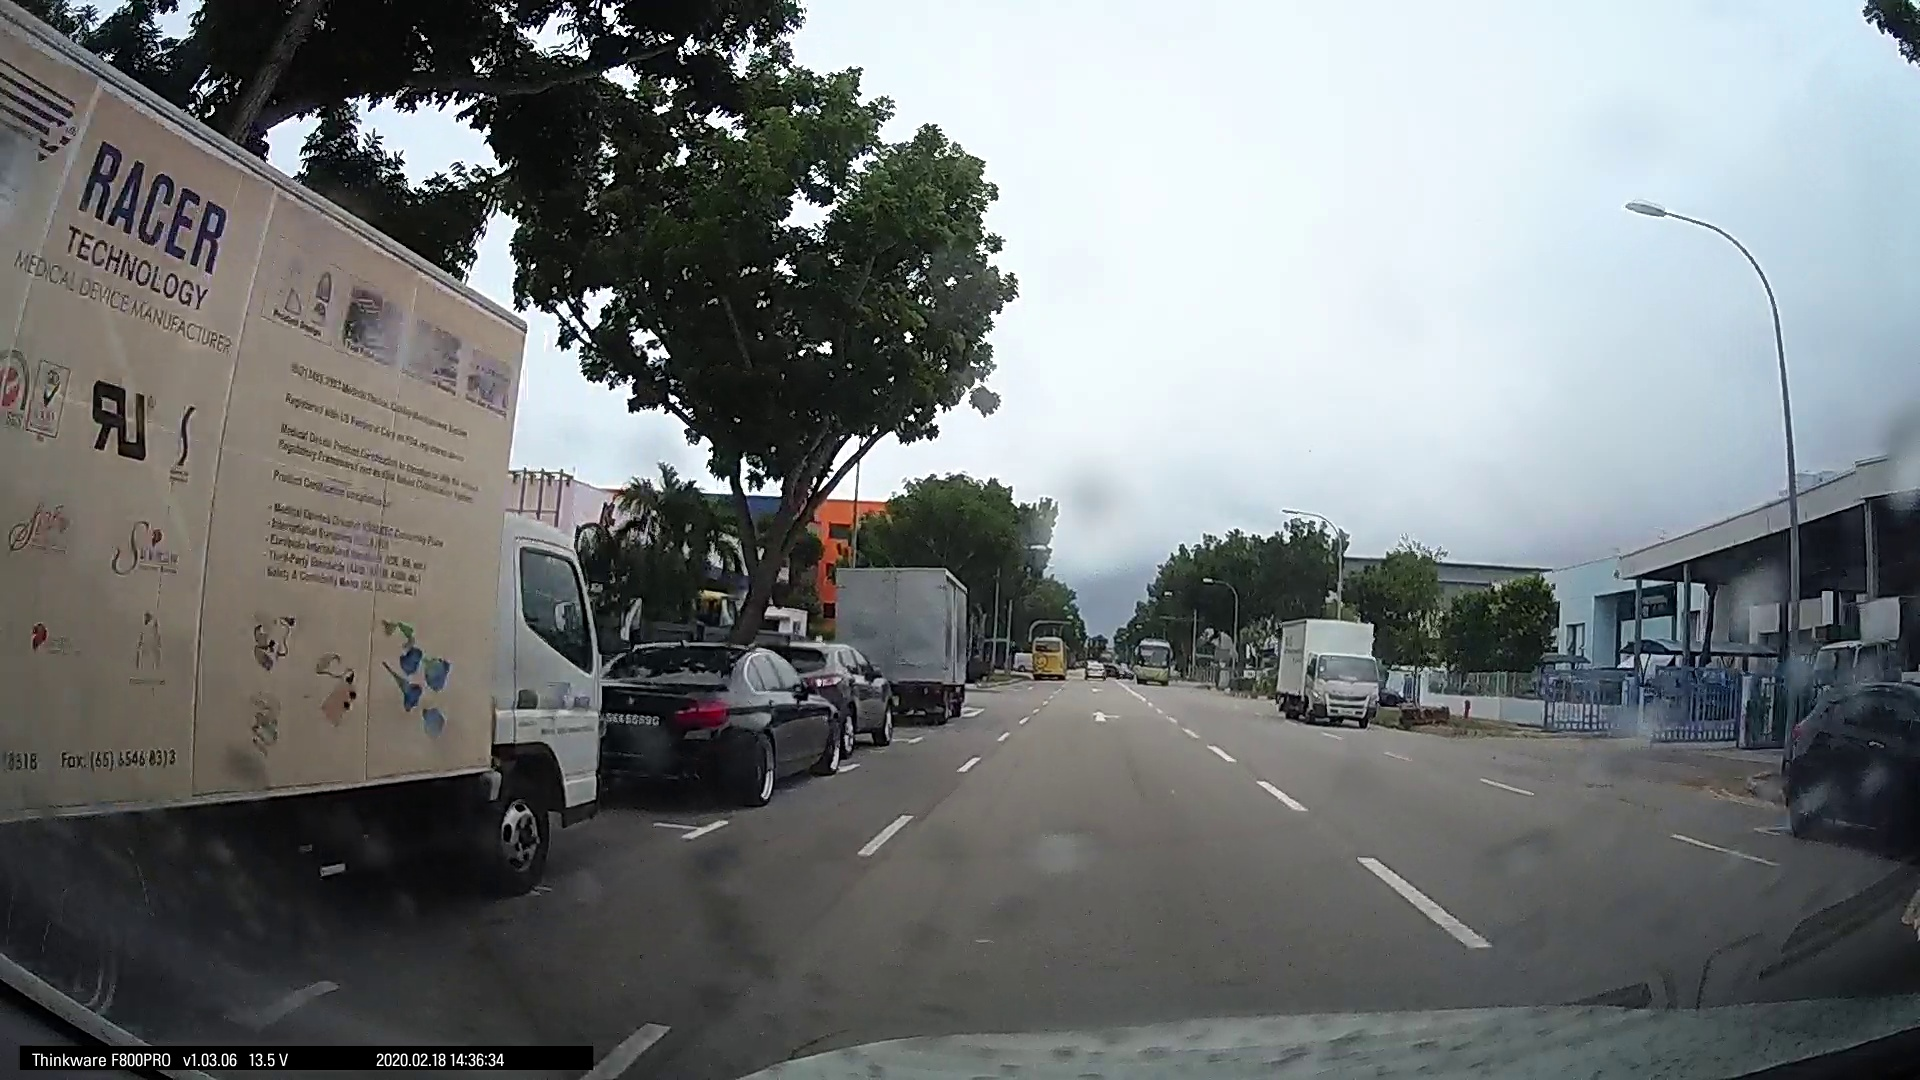Heavy Vehicle: (15, 55, 578, 990), (829, 559, 975, 729), (1267, 616, 1383, 728)
Light Vehicle: (589, 633, 837, 806), (1782, 673, 1915, 844), (787, 636, 895, 750), (1129, 638, 1174, 683)
